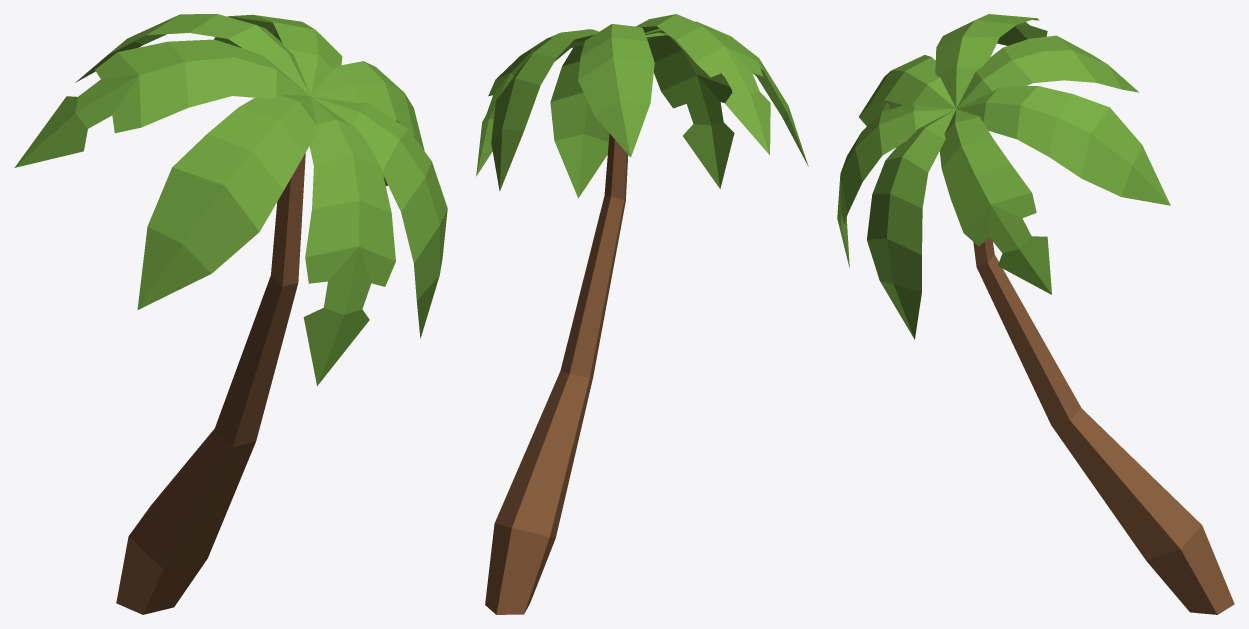
File: nature-palm-angle.glb
3 renders of one model, left to right at view 1: azimuth 30°, elevation 25°; view 2: azimuth 150°, elevation 25°; view 3: azimuth 270°, elevation 25°, orthographic. The views are drawn at different scales.
Visible parts, largest first — view 1: palm-angle; view 2: palm-angle; view 3: palm-angle.
Boxes of the visible parts, x1,y1,x2,y2 form: palm-angle: (14,14,447,614); palm-angle: (476,14,808,614); palm-angle: (837,14,1234,614).
Bounding box in the file's own units: 2.44 × 4.15 × 2.75.
